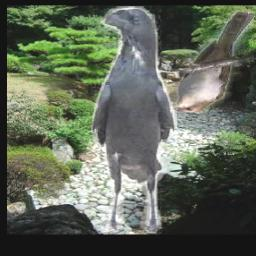Crow: (90, 6, 176, 234)
Cuckoo: (162, 13, 254, 114)
